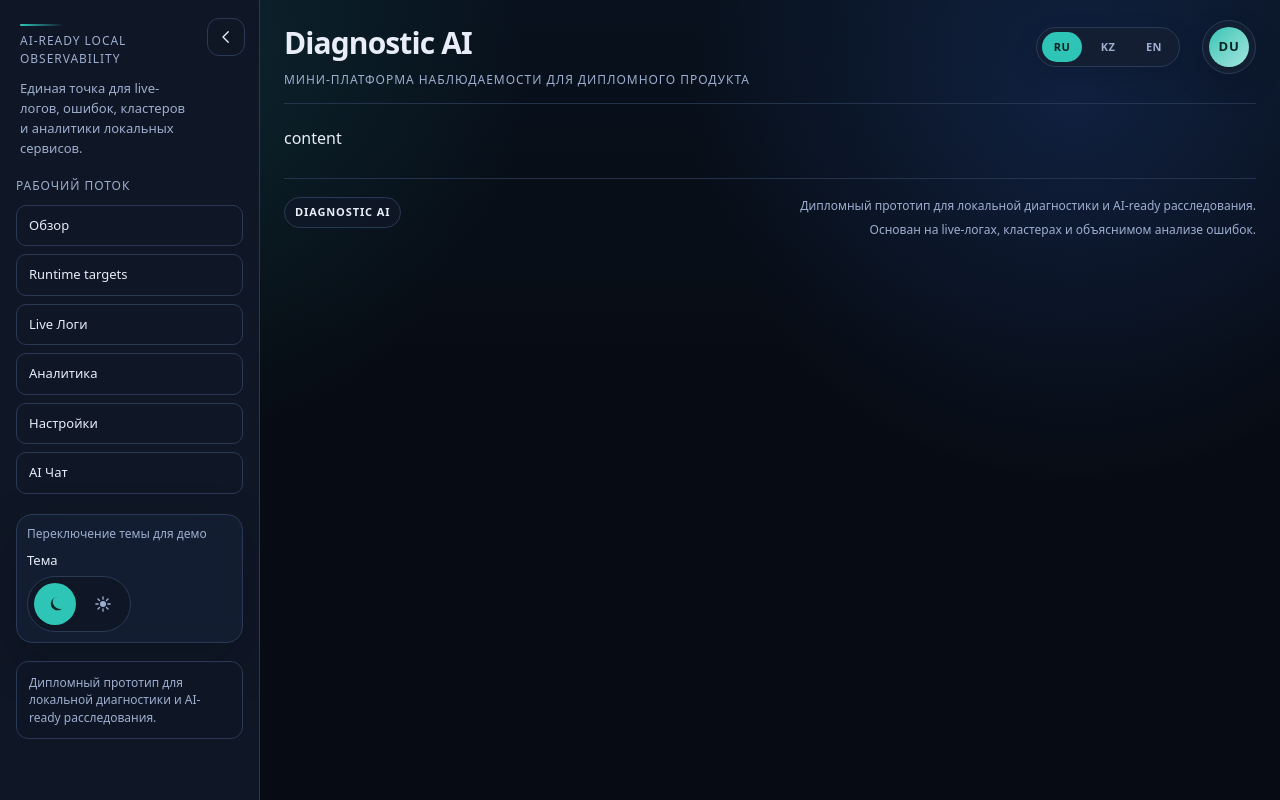
ShellLayout profile menu › shows authenticated user details in the profile menu
Click the button "DU".
click(1229, 47)  # box left=1202, top=20, right=1256, bottom=74
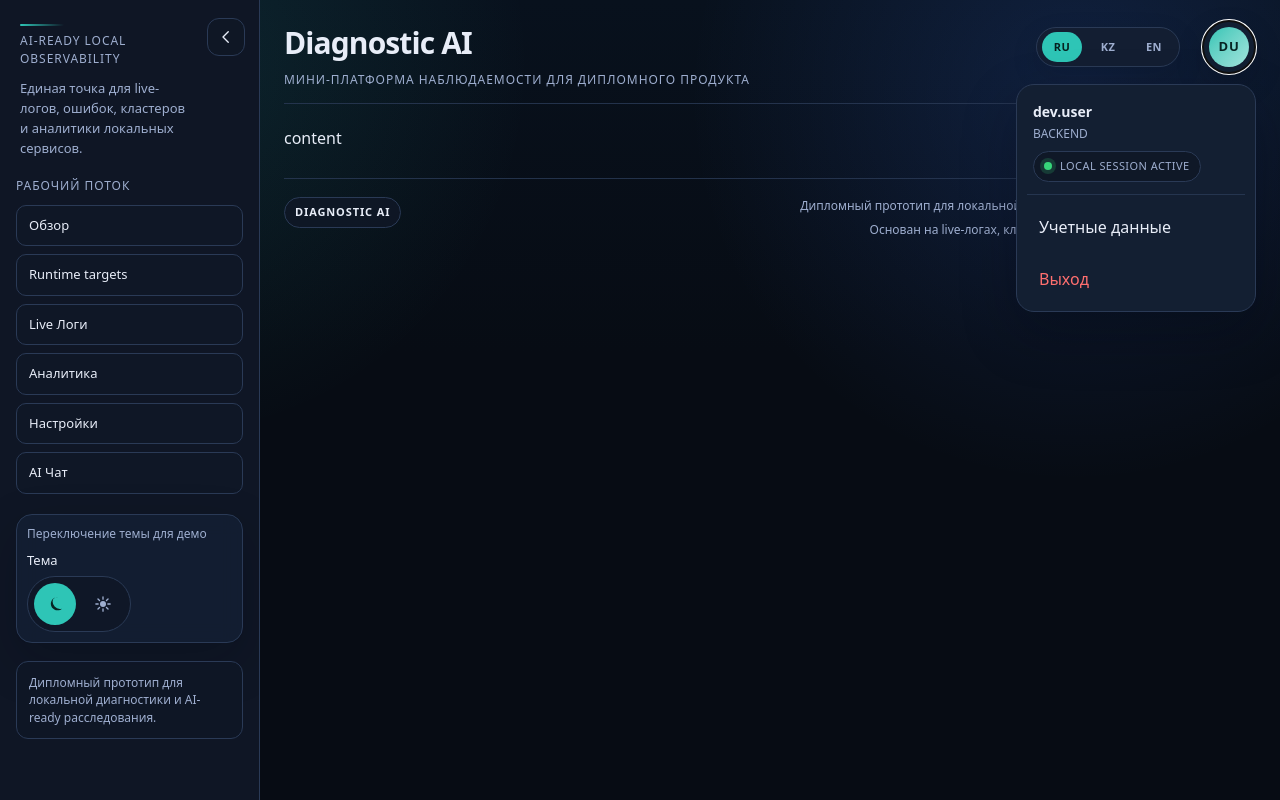
Check: the text "dev.user" is shown, box left=1033, top=102, right=1092, bottom=121
Check: the text "BACKEND" is shown, box left=1033, top=125, right=1088, bottom=142
Check: the button "Учетные данные" is shown, box left=1027, top=204, right=1245, bottom=248
